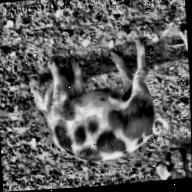boar: (28, 35, 172, 169), (154, 148, 192, 181), (178, 27, 188, 52)
